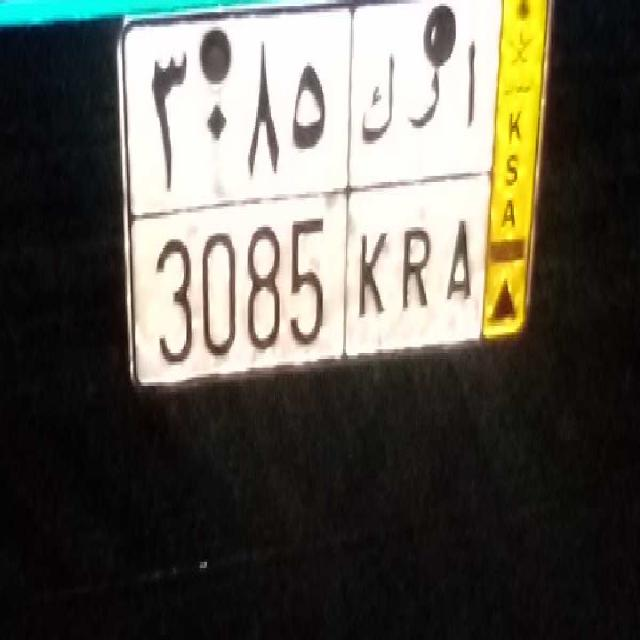license_plate: (142, 193, 484, 391)
